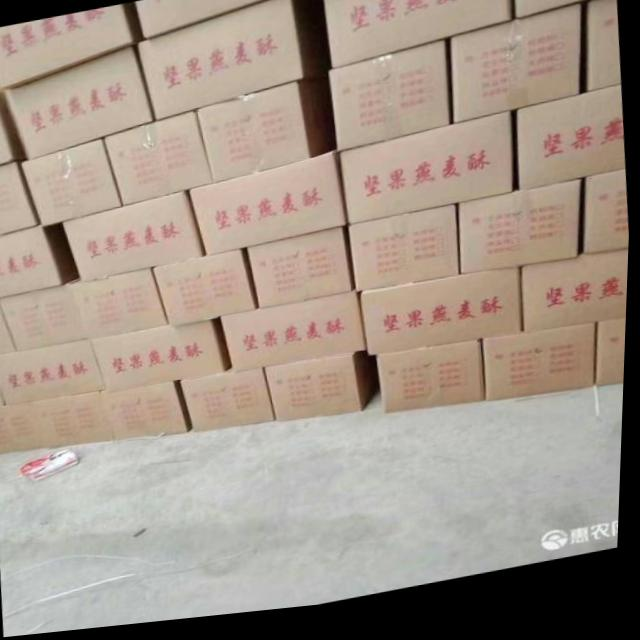box: (138, 0, 304, 123), (342, 122, 515, 231), (4, 48, 155, 160), (190, 158, 348, 259), (452, 16, 581, 132), (322, 0, 513, 75), (197, 86, 337, 188), (329, 49, 453, 159), (364, 279, 524, 363), (64, 194, 206, 284), (0, 4, 146, 90), (223, 298, 369, 378), (461, 191, 583, 284), (518, 99, 625, 202), (93, 320, 235, 395), (104, 114, 215, 208), (351, 215, 461, 300), (22, 140, 125, 227), (524, 262, 631, 344), (486, 334, 598, 411), (249, 234, 356, 314), (154, 254, 260, 329), (267, 359, 382, 427), (380, 350, 487, 421), (0, 341, 109, 406), (70, 271, 171, 341), (135, 0, 287, 42), (183, 372, 278, 436), (0, 223, 80, 298), (0, 285, 90, 351), (105, 385, 196, 443), (41, 393, 117, 451), (586, 182, 630, 267), (588, 5, 621, 103), (0, 160, 40, 234), (515, 0, 614, 29), (0, 402, 49, 455), (0, 91, 29, 165), (599, 331, 629, 398), (0, 303, 18, 354), (0, 380, 9, 407)
